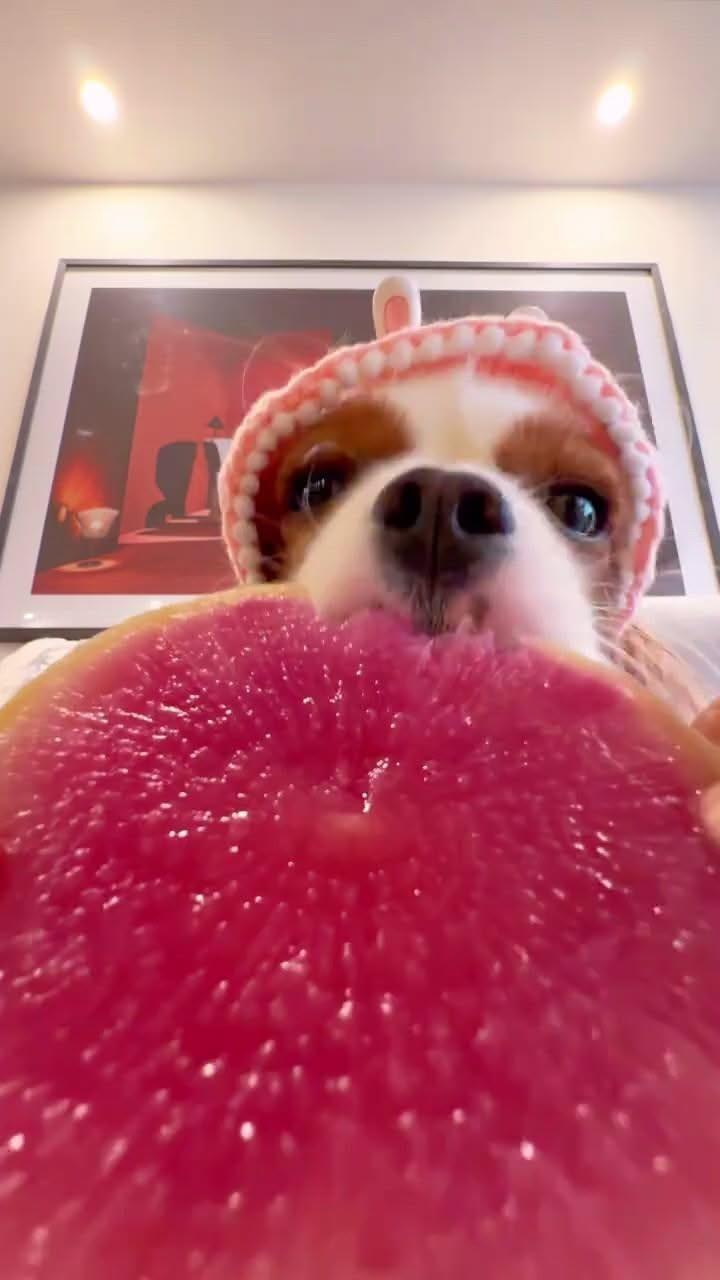adult_dog: (231, 354, 685, 722)
